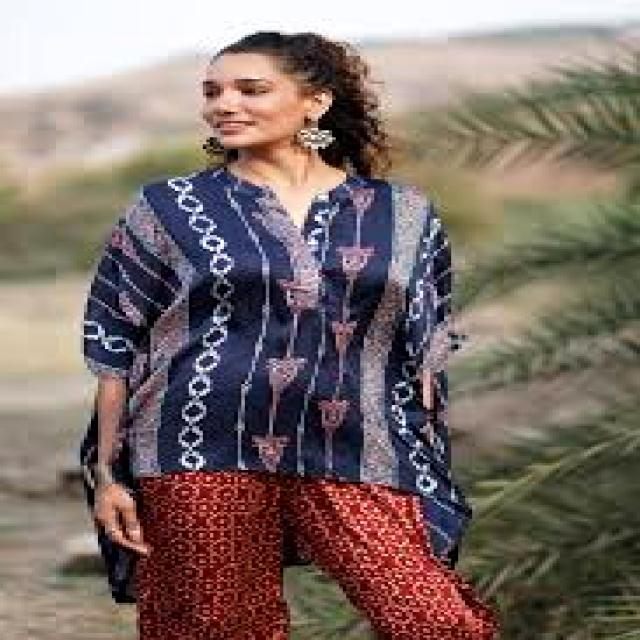face: (198, 30, 368, 148)
lower-wear: (125, 410, 492, 640)
top-wear: (88, 176, 464, 487)
